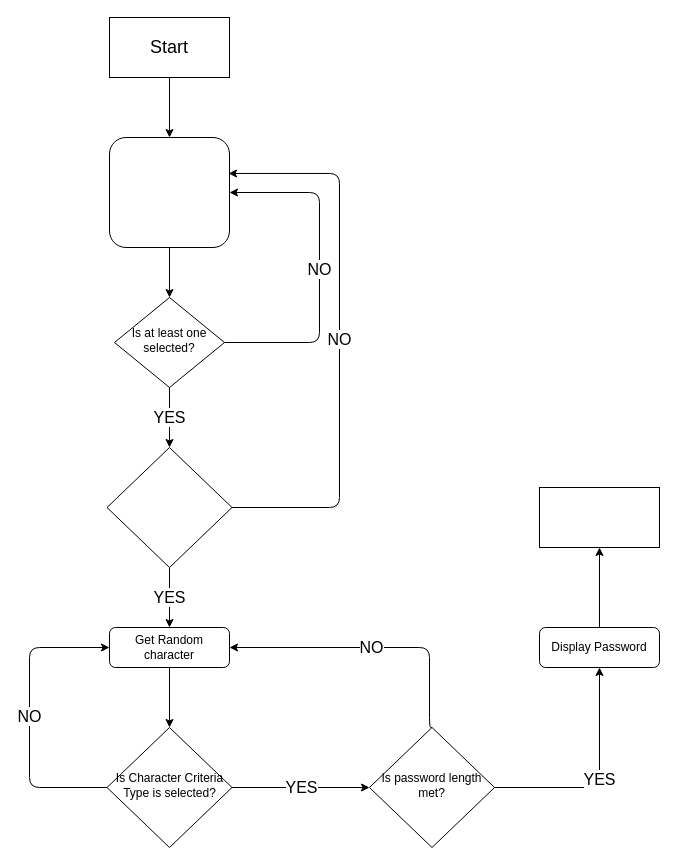
Some shapes in this 677 by 865 pixel diagram are drawn without their labels. The centre of each missing label's shape, as x and y in pixels:
END: the point at 599,517
Get Password Criteria: - lower - upper - numeric - special - length: the point at 169,192
Is Length of Password is within the acceptable range?: the point at 169,507
